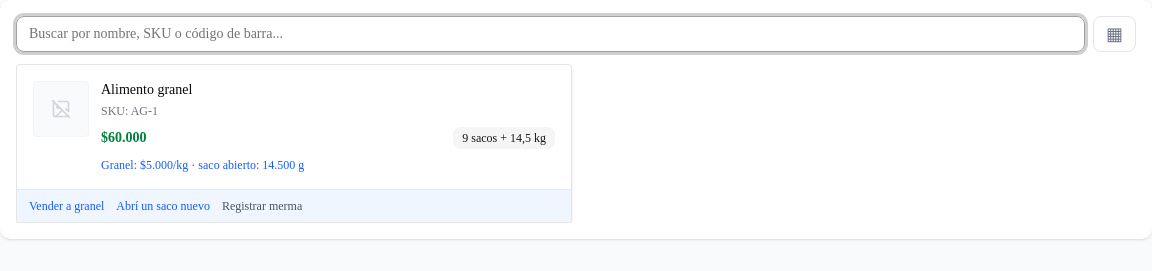
Test: SearchProductos — venta a granel (input de gramos) › GR-U-07: al hacer click en 'Vender a granel' aparece el input de gramos
This screenshot has width=1152, height=271.
Click the button "Vender a granel": (67, 206) [29,198,104,214]
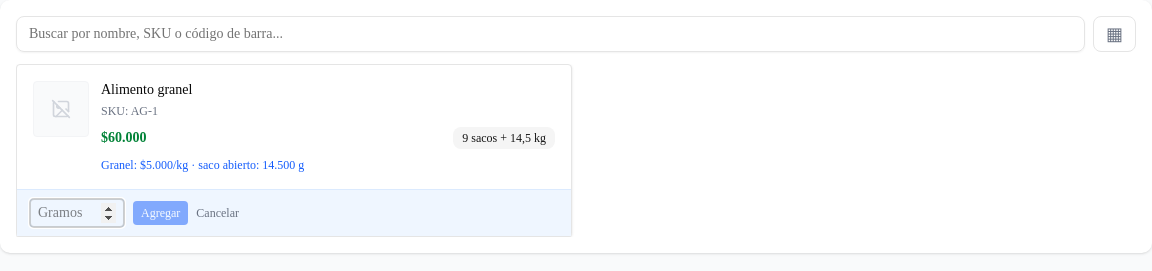
Expected: the number field with placeholder "Gramos" is shown, [29,198,125,228]
